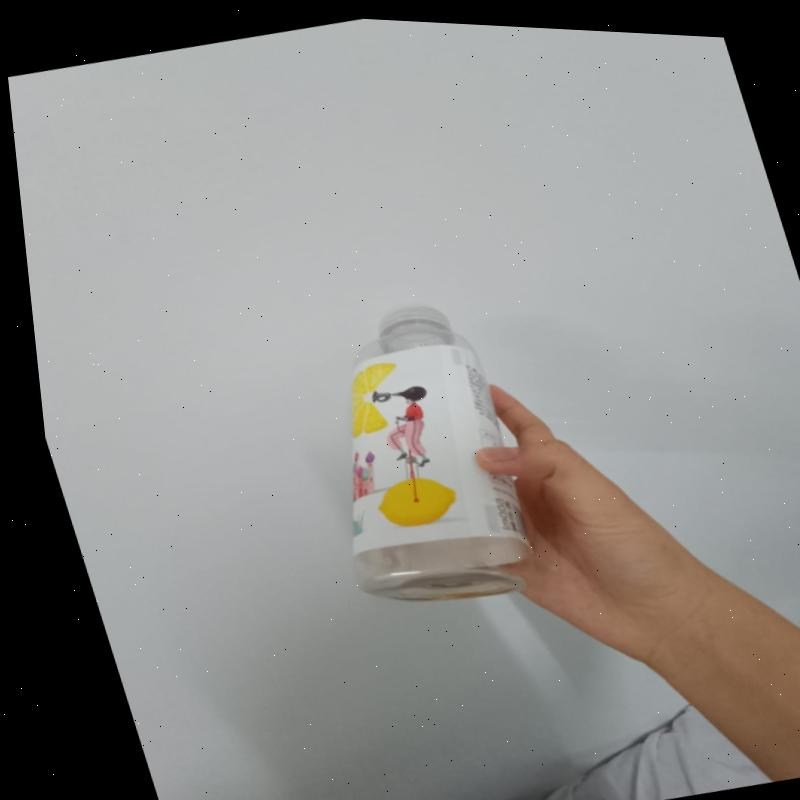botella: (258, 278, 550, 630)
